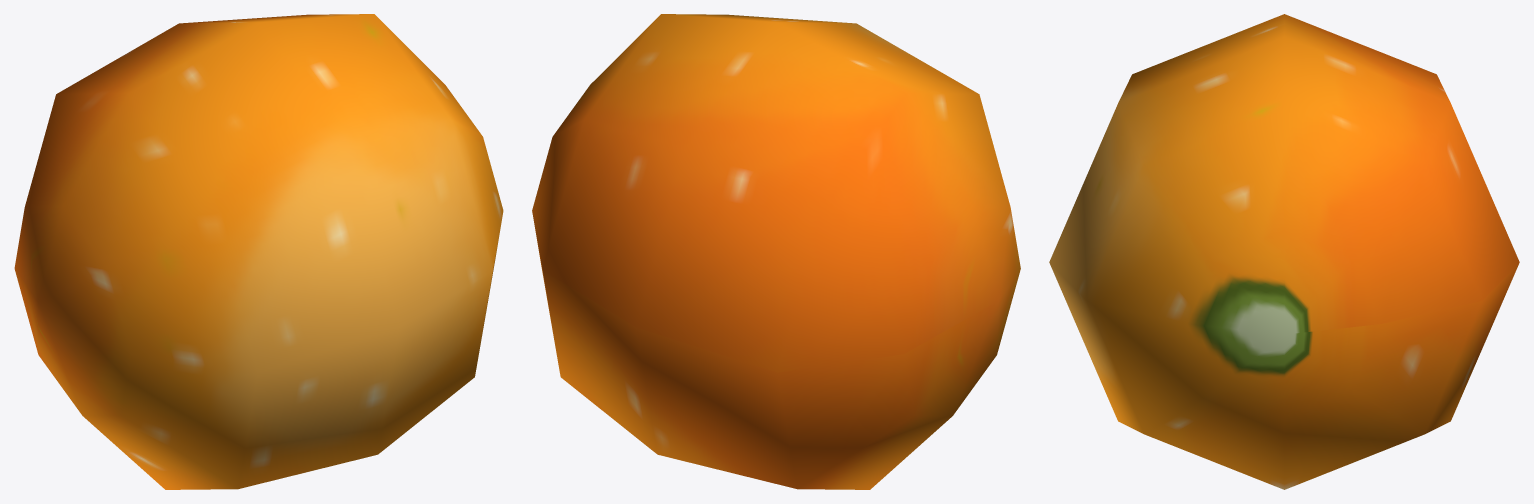
The model's file is SM_PROP_food_orange_01.FBX.
3 views of the same model, side by side, from view 1: azimuth 30°, elevation 25°; view 2: azimuth 150°, elevation 25°; view 3: azimuth 270°, elevation 25° (orthographic). The views are drawn at different scales.
Parts seen in each view (by area): view 1: SM_PROP_food_orange_01; view 2: SM_PROP_food_orange_01; view 3: SM_PROP_food_orange_01.
Part boxes in pixels (x1,y1,x2,y2): SM_PROP_food_orange_01: [14, 14, 503, 489]; SM_PROP_food_orange_01: [532, 14, 1020, 489]; SM_PROP_food_orange_01: [1049, 14, 1519, 489].
Bounding box in the file's own units: 18.72 × 17.58 × 17.85.
